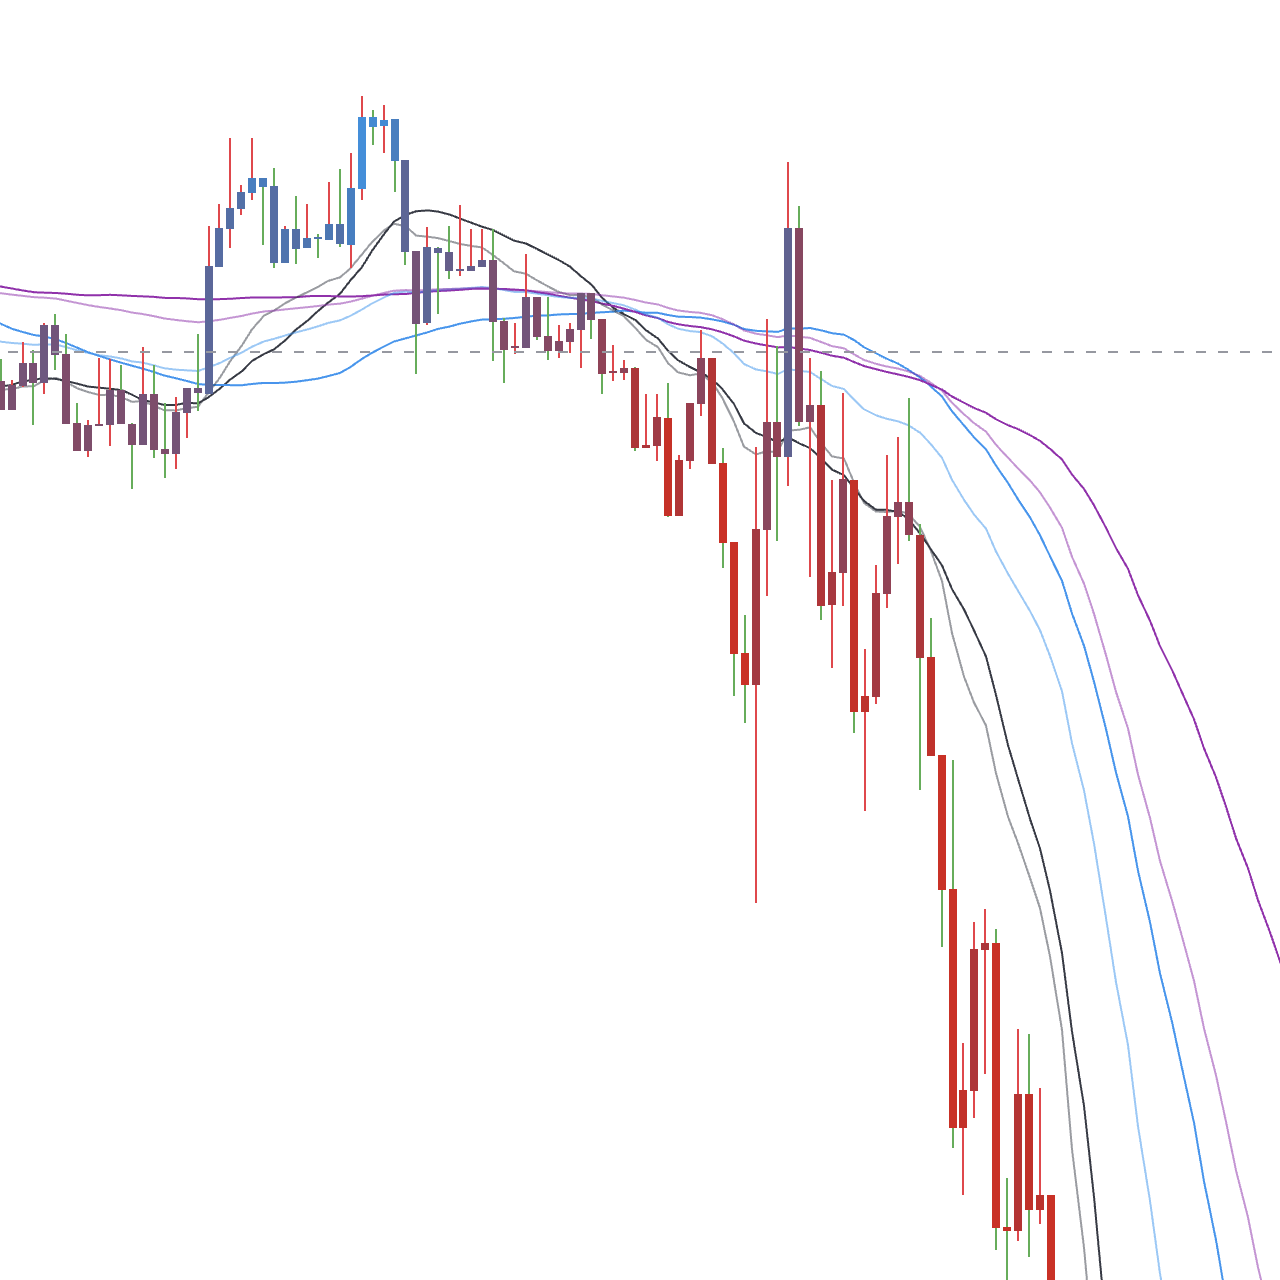ma_cluster: (520, 261, 670, 418)
